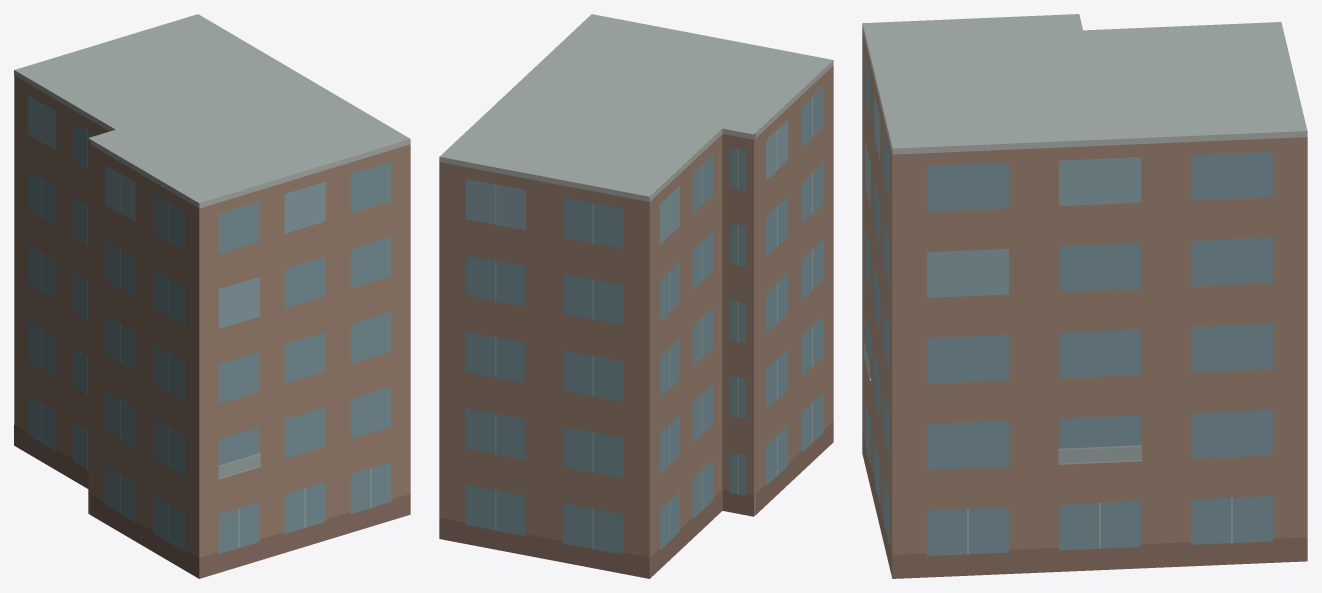
File: survey-upis-32667004.glb
3 renders of one model, left to right at view 1: azimuth 30°, elevation 25°; view 2: azimuth 150°, elevation 25°; view 3: azimuth 270°, elevation 25°, orthographic. The views are drawn at different scales.
Visible parts, largest first — view 1: survey-upis-32667004.tmp; view 2: survey-upis-32667004.tmp; view 3: survey-upis-32667004.tmp.
Part boxes in pixels (box(x1,y1,x2,y2)): survey-upis-32667004.tmp: box(14, 14, 410, 578); survey-upis-32667004.tmp: box(439, 14, 833, 578); survey-upis-32667004.tmp: box(862, 14, 1307, 578).
Bounding box in the file's own units: 11.72 × 17.45 × 16.37.
